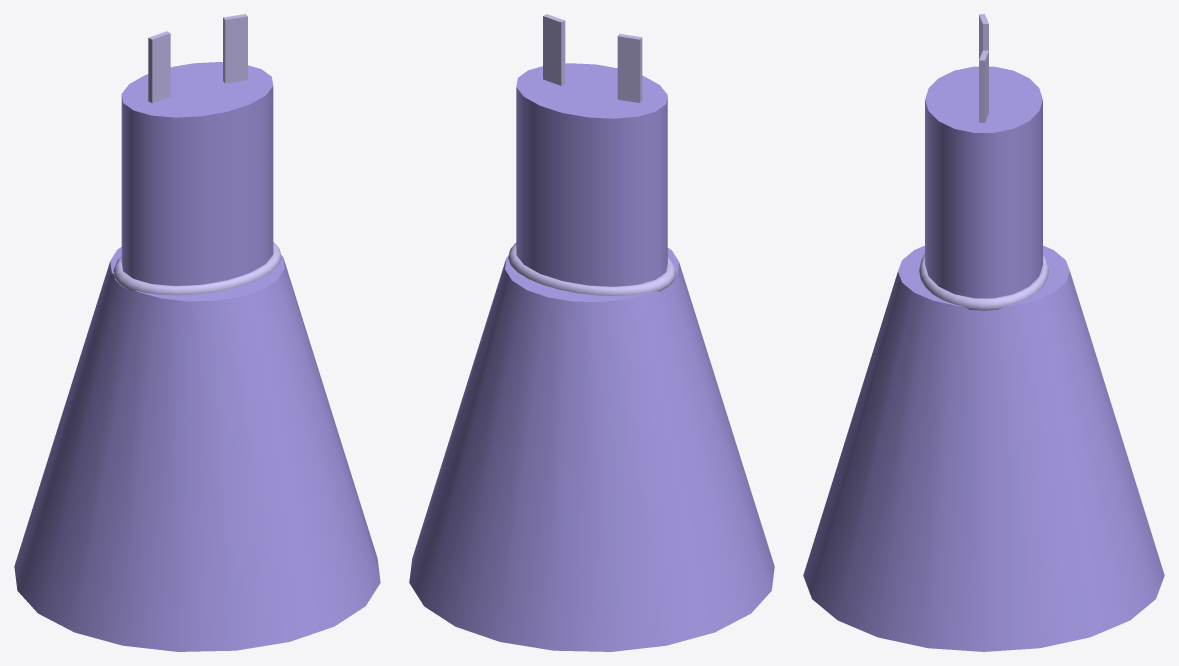
File: VM-DAM-EXT180.glb
3 views of the same model, side by side, from view 1: azimuth 30°, elevation 25°; view 2: azimuth 150°, elevation 25°; view 3: azimuth 270°, elevation 25° (orthographic).
Visible parts, largest first — view 1: Vestido Estampado de Guisantes; view 2: Vestido Estampado de Guisantes; view 3: Vestido Estampado de Guisantes.
Boxes of the visible parts, x1,y1,x2,y2 form: Vestido Estampado de Guisantes: (14,14,380,651); Vestido Estampado de Guisantes: (409,14,774,651); Vestido Estampado de Guisantes: (803,14,1164,651).
Size of the model in its own units: 0.8232 by 1.35 by 0.8232.
